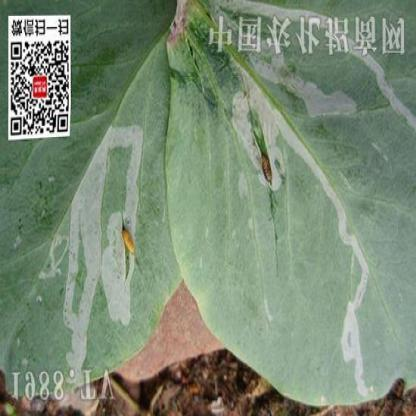whorl-maggot: (119, 220, 139, 264), (256, 148, 278, 188)
